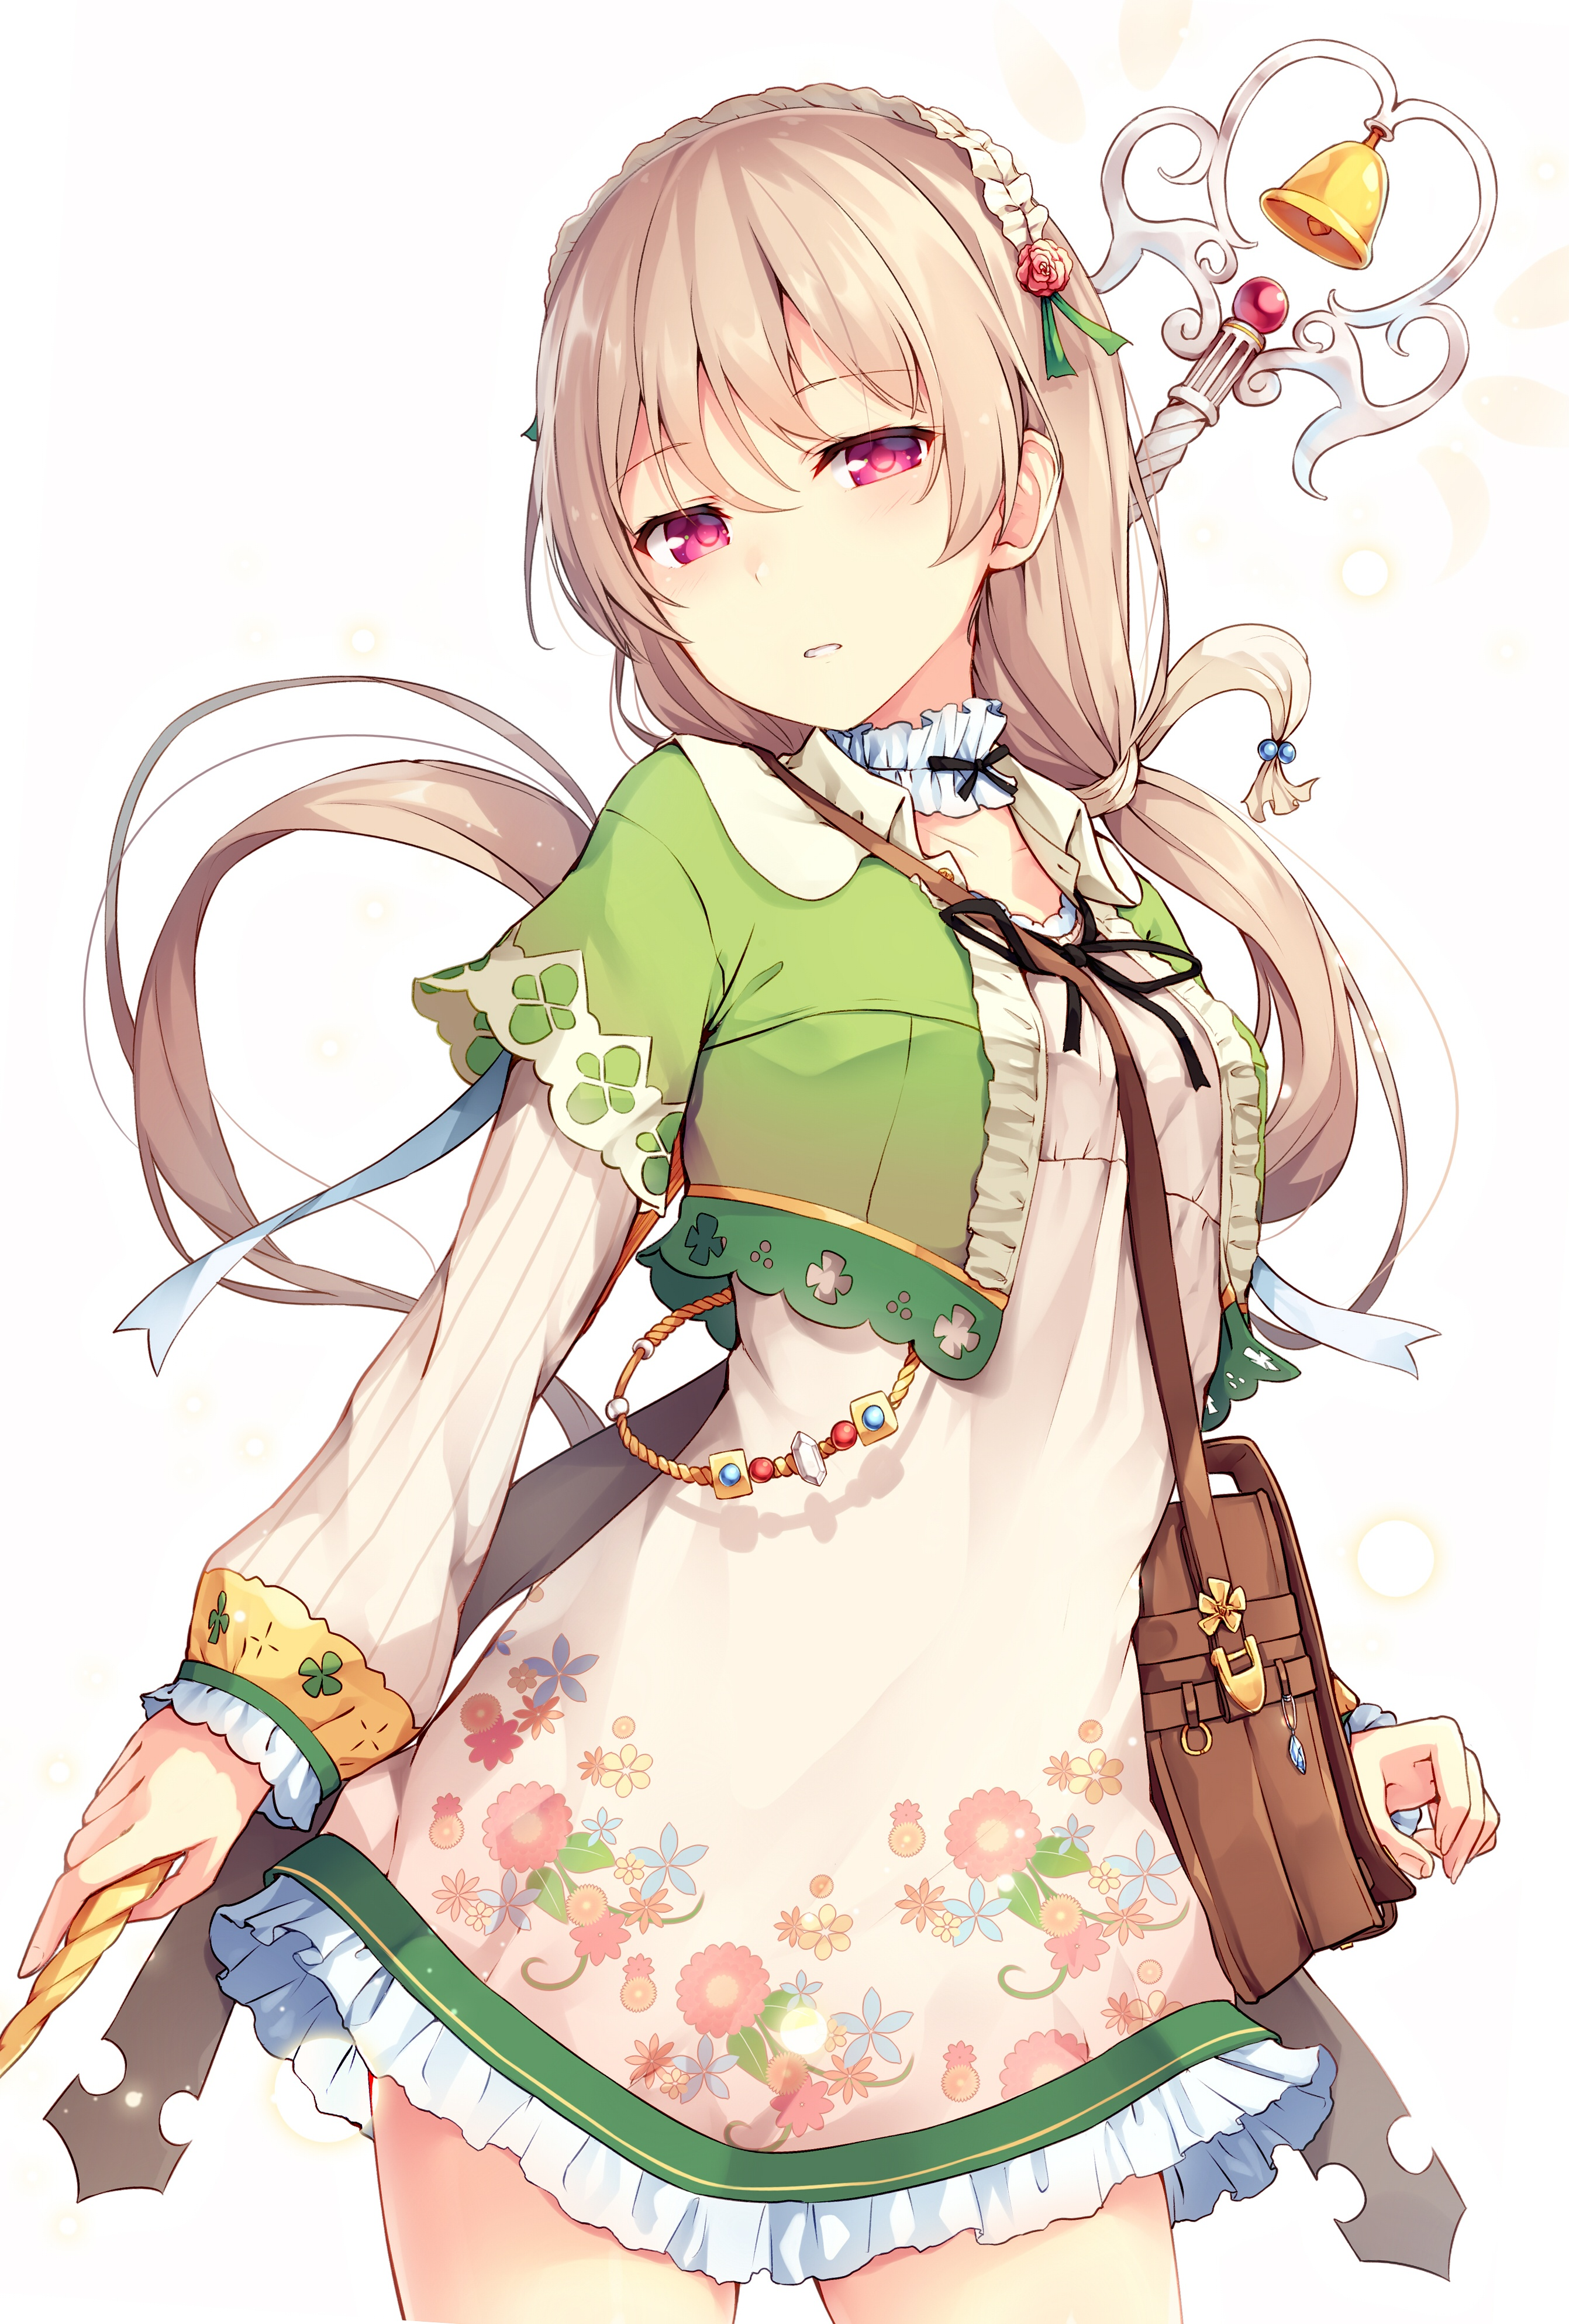纸片人正脸: (515, 67, 1104, 745)
